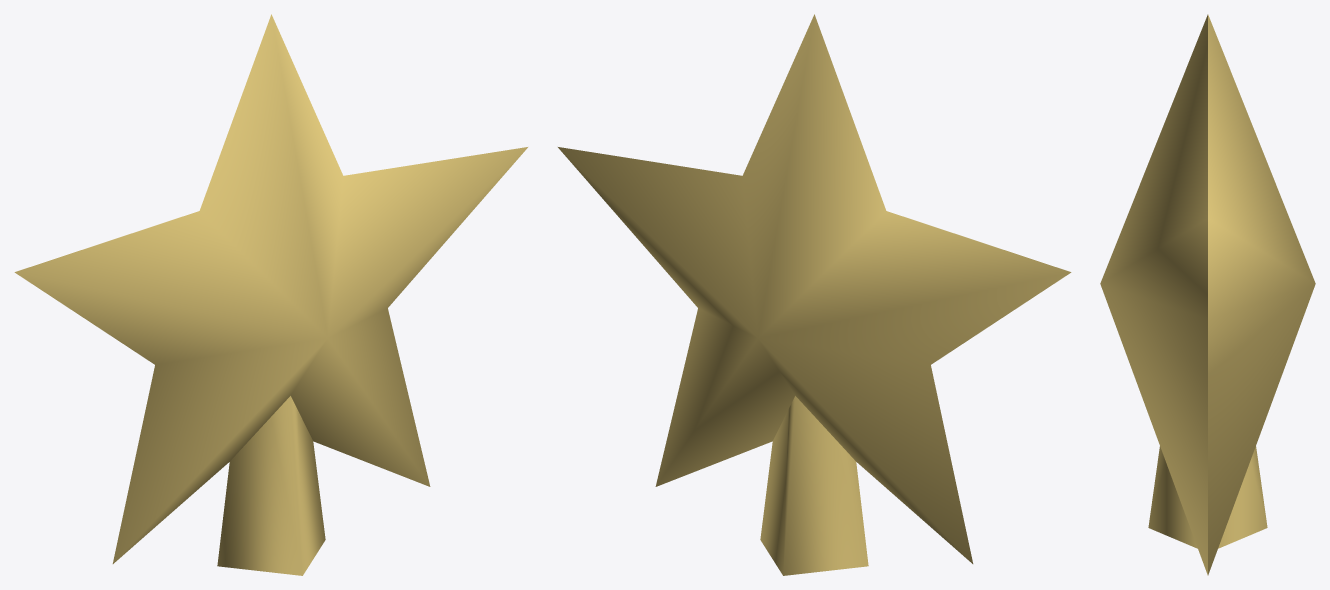
File: 0071_Star.glb
3 views of the same model, side by side, from view 1: azimuth 30°, elevation 25°; view 2: azimuth 150°, elevation 25°; view 3: azimuth 270°, elevation 25° (orthographic). The views are drawn at different scales.
Visible parts, largest first — view 1: part_0; view 2: part_0; view 3: part_0.
Boxes of the visible parts, left/top/right/bottom form: part_0: left=14, top=14, right=527, bottom=575; part_0: left=558, top=14, right=1071, bottom=575; part_0: left=1100, top=14, right=1315, bottom=575.
Size of the model in its own units: 0.104 by 0.1042 by 0.0396.
Materials: 1 (1 with a texture image).
